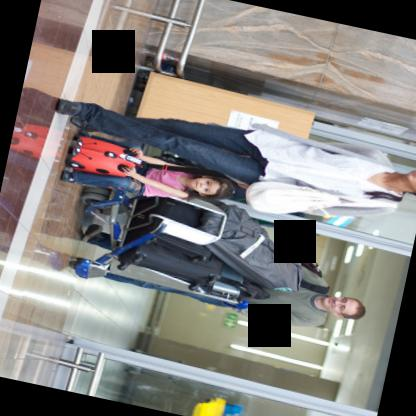backpack: (297, 259, 329, 294)
handbag: (242, 179, 397, 215)
suitcase: (194, 203, 300, 291), (115, 242, 222, 289), (64, 135, 135, 176), (142, 232, 210, 262)
